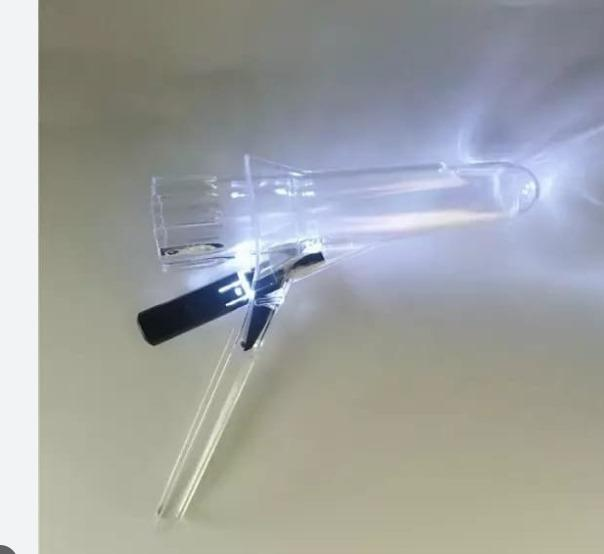Protoscope: (111, 137, 545, 522)
